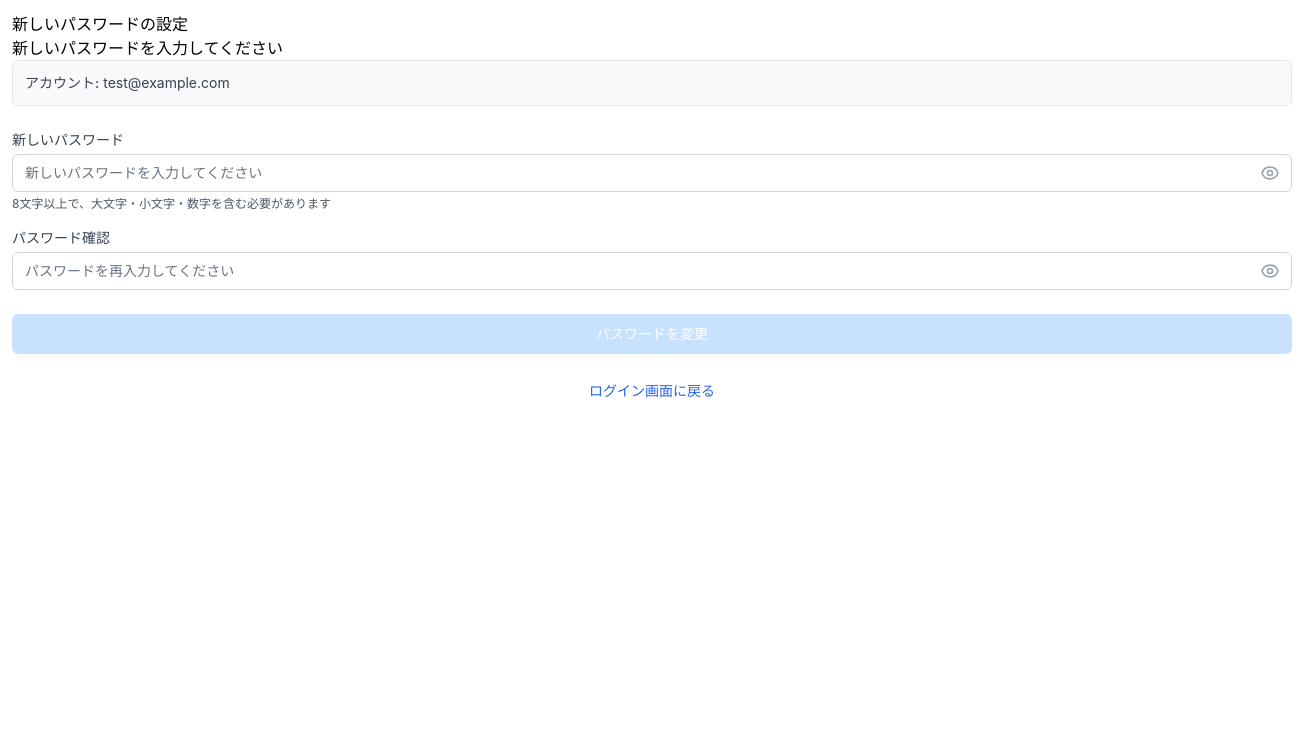
it: PasswordResetPage › エラーハンドリング › 無効な確認コードでエラーメッセージが表示される
This screenshot has width=1304, height=732.
// パスワードは大文字、小文字、数字を含む必要がある
Step 1. Type "NewPassword123" into the password field labelled "新しいパスワード" → point(652, 173), box [12,154,1292,192]
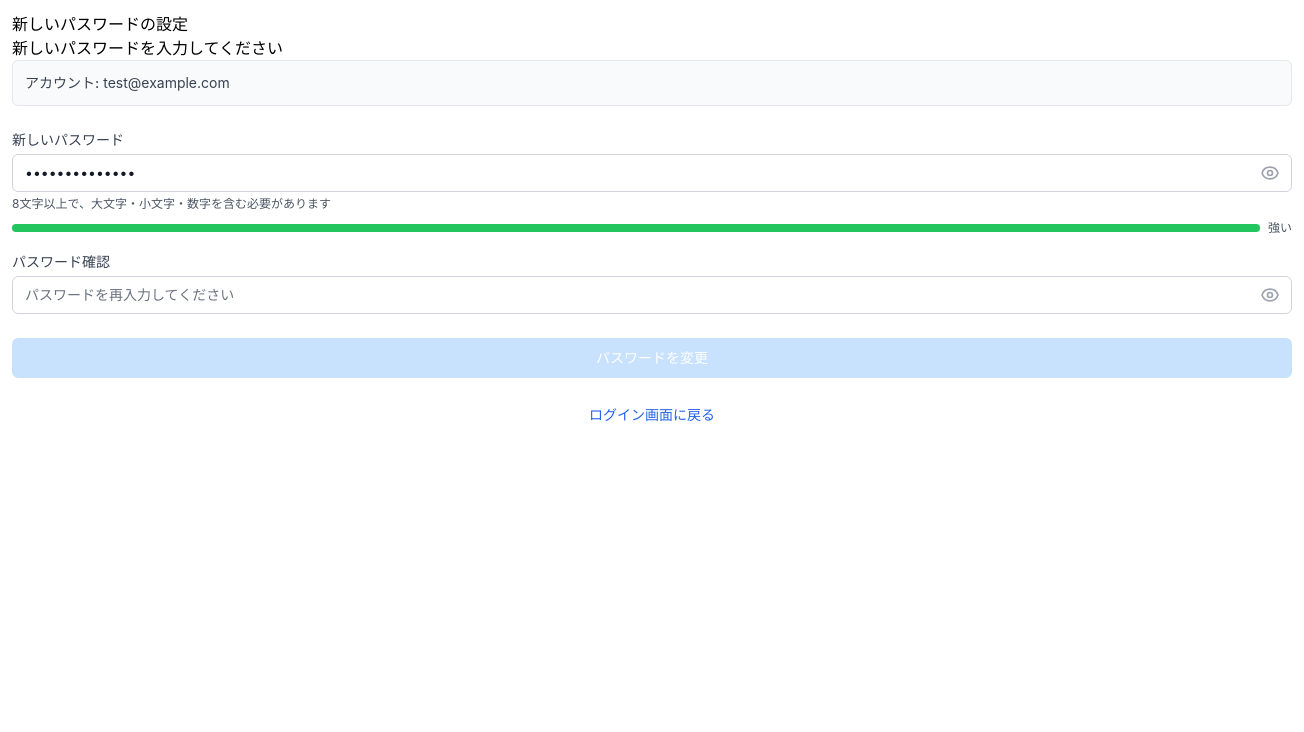
Step 2. Type "NewPassword123" into the password field labelled "パスワード確認" → point(652, 295), box [12,276,1292,314]
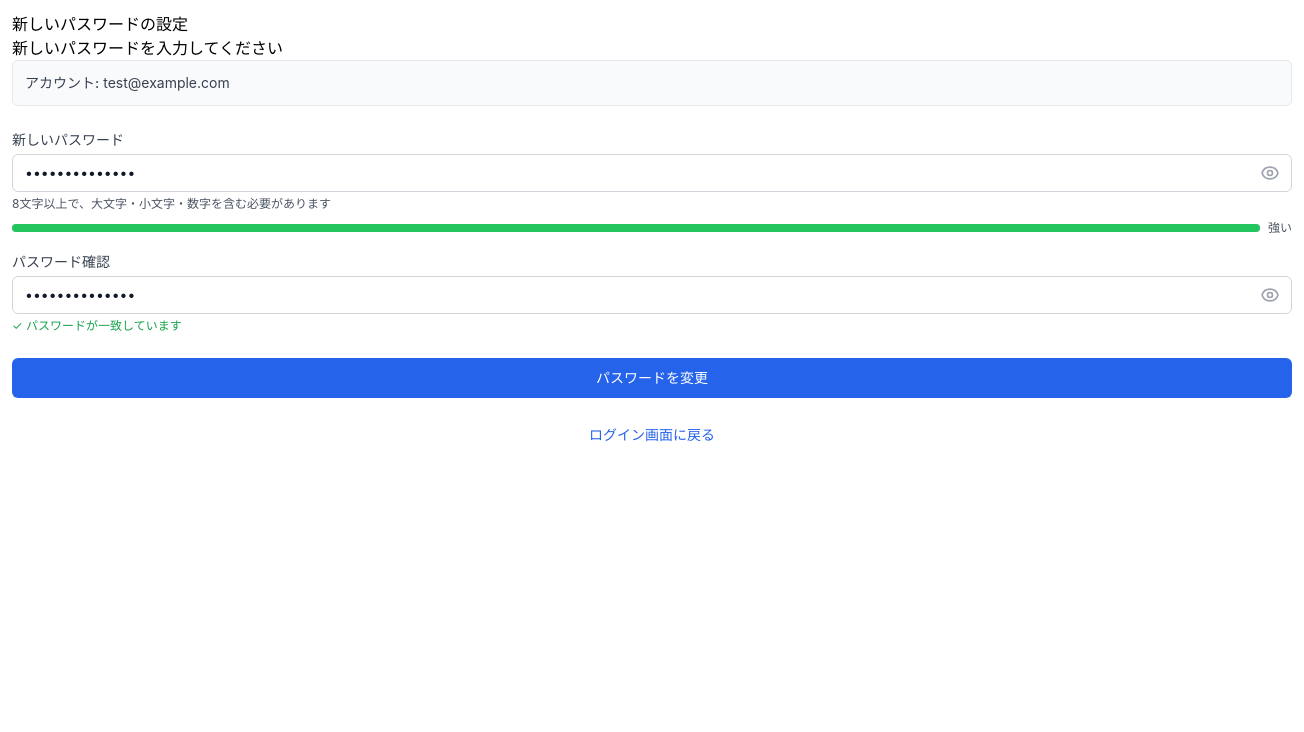
Result: the button "パスワードを変更" is enabled
Step 3. Click the button "パスワードを変更" → point(652, 378), box [12,358,1292,398]
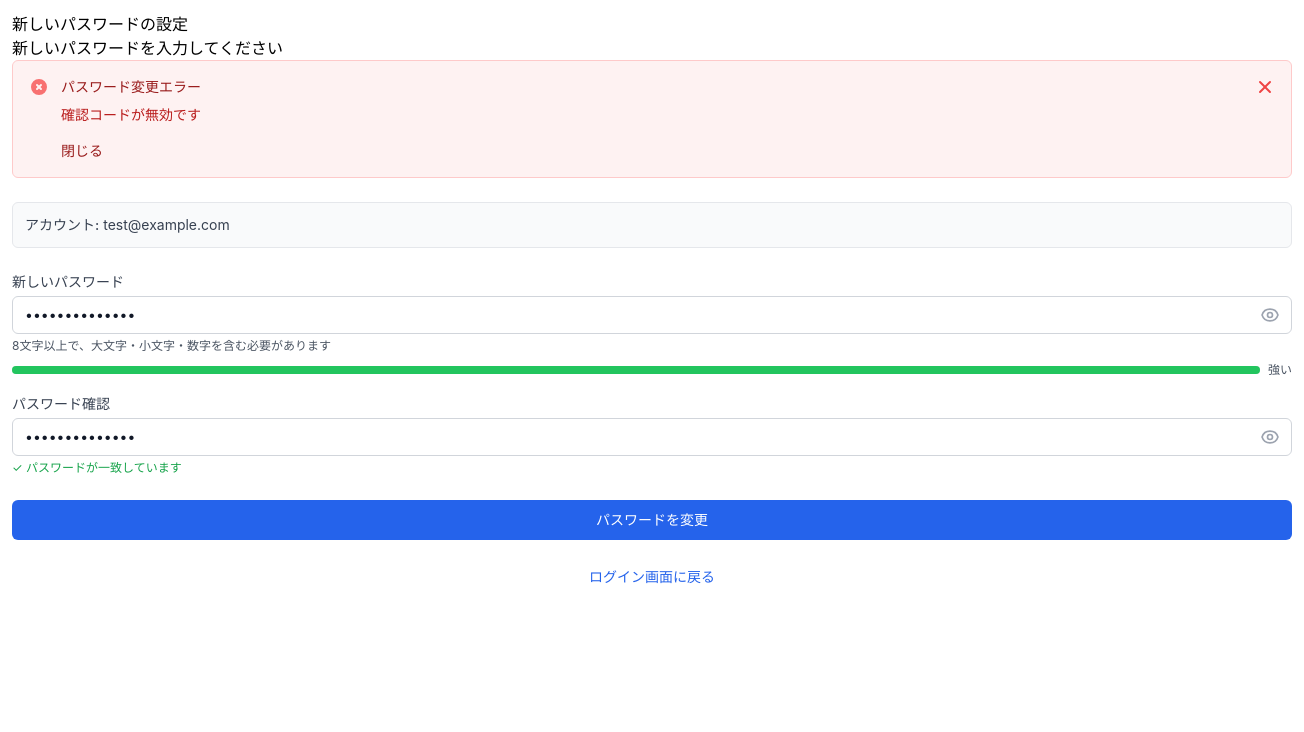
Result: the text "確認コードが無効です" is shown at [61,106,201,123]
